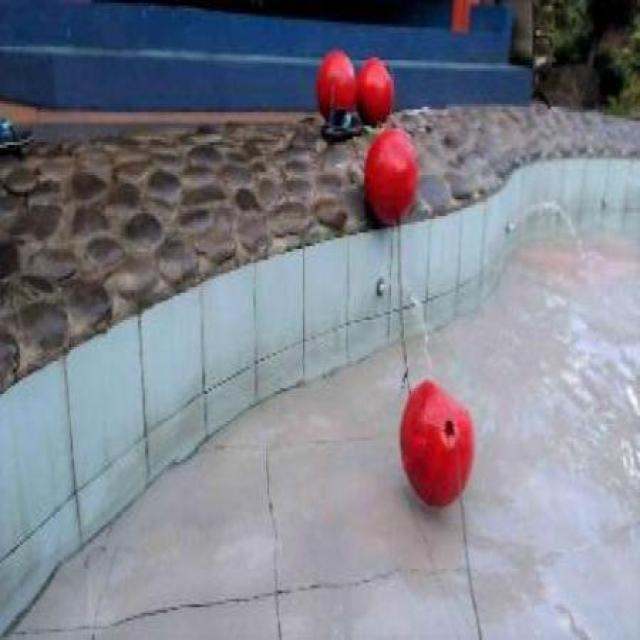buoy: (397, 379, 473, 507), (362, 127, 417, 223), (316, 49, 355, 120), (358, 55, 393, 120)
